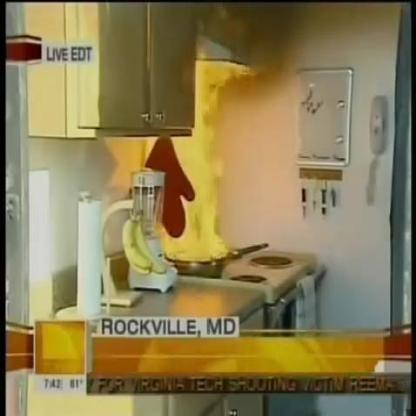fire: (158, 61, 245, 262)
